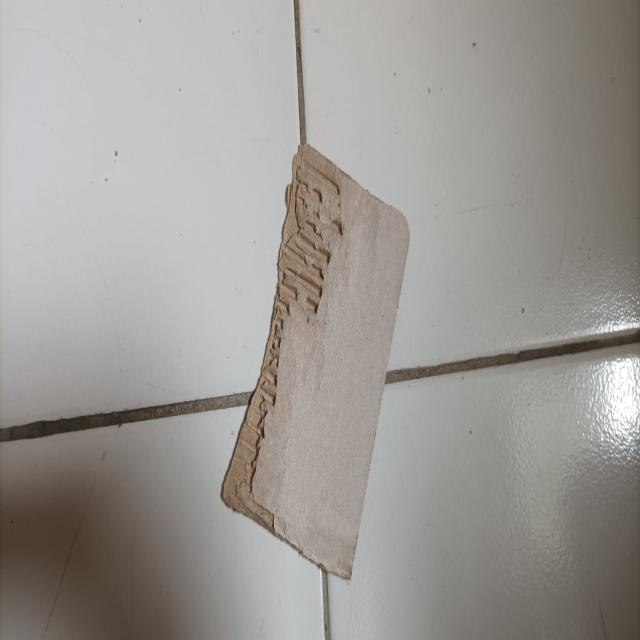Organik: (224, 144, 409, 573)
